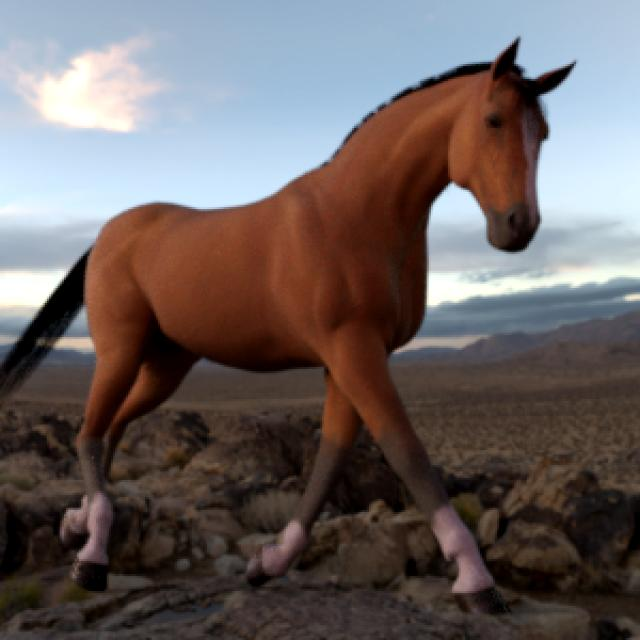horse: (0, 39, 575, 612)
